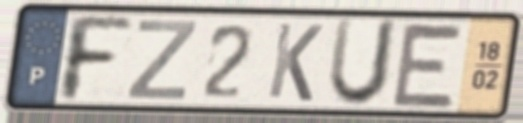2: (199, 22, 255, 101)
E: (389, 19, 468, 111)
F: (59, 12, 136, 104)
K: (264, 20, 326, 105)
U: (323, 16, 402, 111)
Z: (122, 18, 200, 103)
